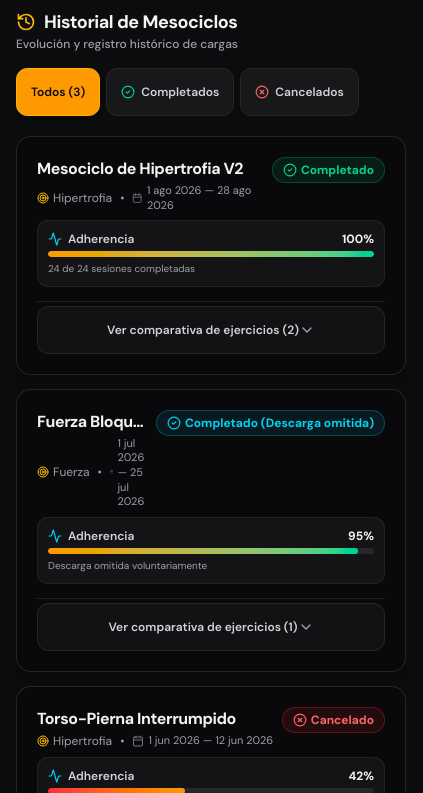
Test: TASK-40: RoutineHistoryPage — Completed & Cancelled Mesocycle History (RF-06, Constitución Art. 2, Art. 6) › Tarjetas de Progresión por Ejercicio y Comparativas de 1RM (RF-06 CA-06.4, CA-06.5) › should display exercise progression cards with baseline, final load, and estimated 1RM delta
Expand first mesocycle card
Click the button "Ver comparativa de ejercicios (2)" at (211,330), box [37,306,385,354]
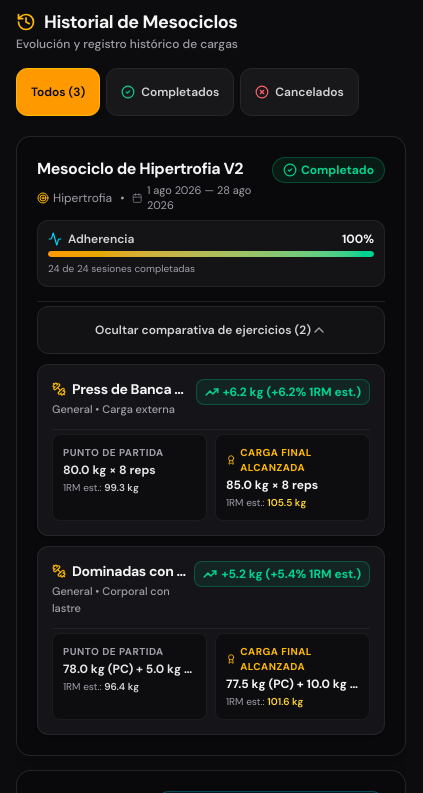
Now the heading "Press de Banca Plano" is shown, box [72,379,188,399]
Now the heading "Dominadas con Lastre" is shown, box [72,561,186,581]
Now the text "General • Carga externa" is shown, box [52,401,188,417]
